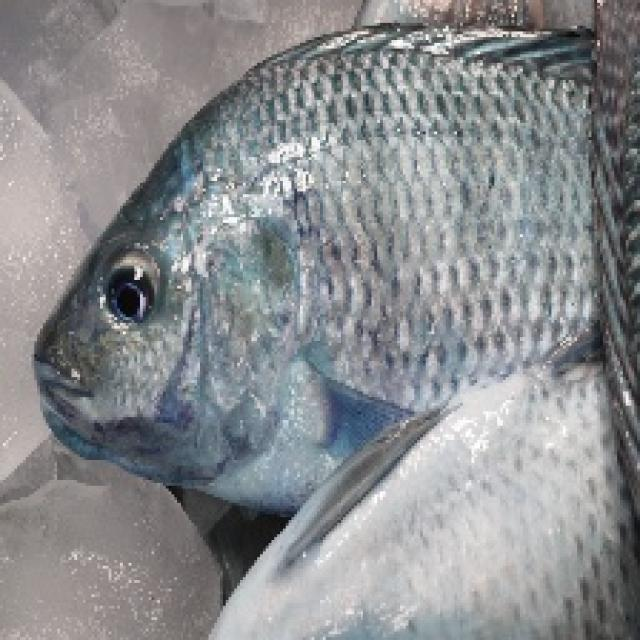Fresh: (34, 114, 640, 488)
